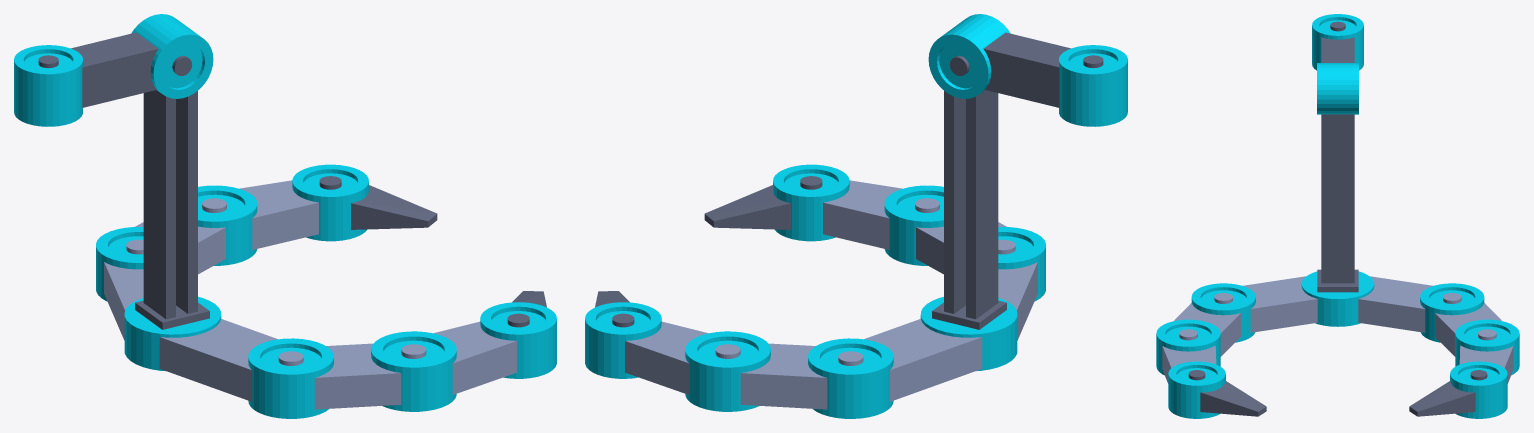
File: gripper_2.dae
3 views of the same model, side by side, from view 1: azimuth 30°, elevation 25°; view 2: azimuth 150°, elevation 25°; view 3: azimuth 270°, elevation 25° (orthographic). The views are drawn at different scales.
Visible parts, largest first — view 1: Gripper; view 2: Gripper; view 3: Gripper.
Boxes of the visible parts, <box> form: Gripper: <box>14,14,556,418</box>; Gripper: <box>585,14,1127,418</box>; Gripper: <box>1156,14,1519,418</box>.
Bounding box in the file's own units: 155 × 138 × 104.
